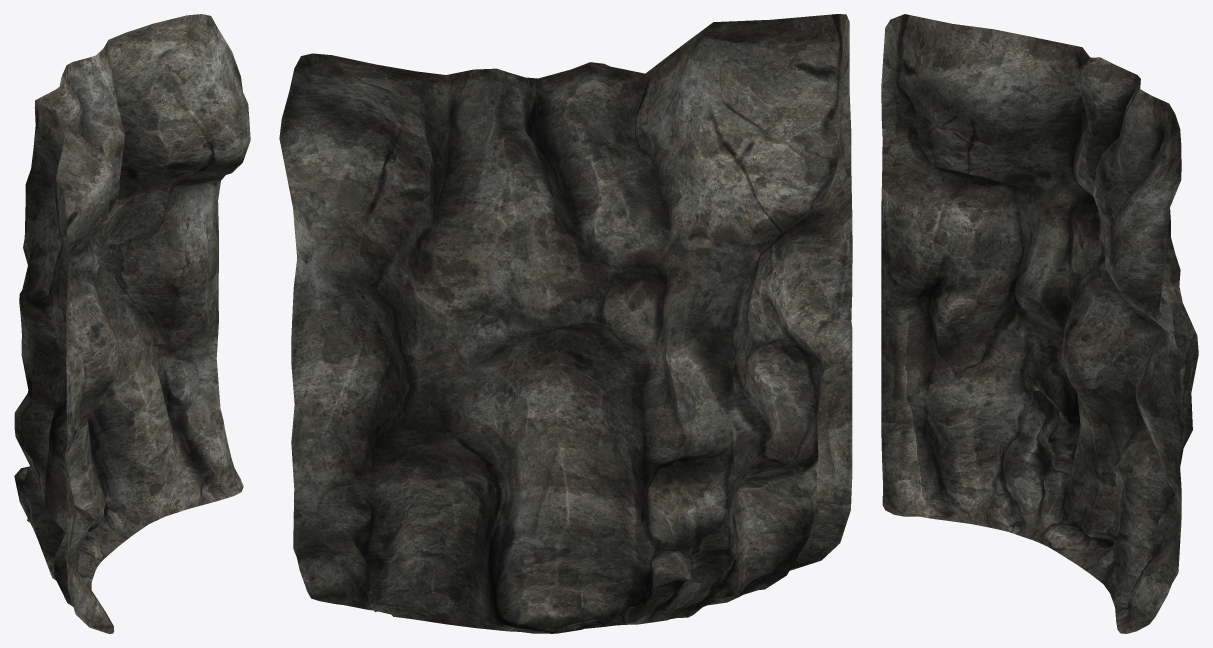
File: cave_ravine_wall_01_concave_lopoly.dae
3 views of the same model, side by side, from view 1: azimuth 30°, elevation 25°; view 2: azimuth 150°, elevation 25°; view 3: azimuth 270°, elevation 25° (orthographic). The views are drawn at different scales.
Parts seen in each view (by area): view 1: Mesh; view 2: Mesh; view 3: Mesh.
Boxes of the visible parts, x1,y1,x2,y2 form: Mesh: [14, 14, 250, 633]; Mesh: [279, 14, 852, 633]; Mesh: [881, 14, 1198, 633].
Bounding box in the file's own units: 2.87 × 4.11 × 2.42.
